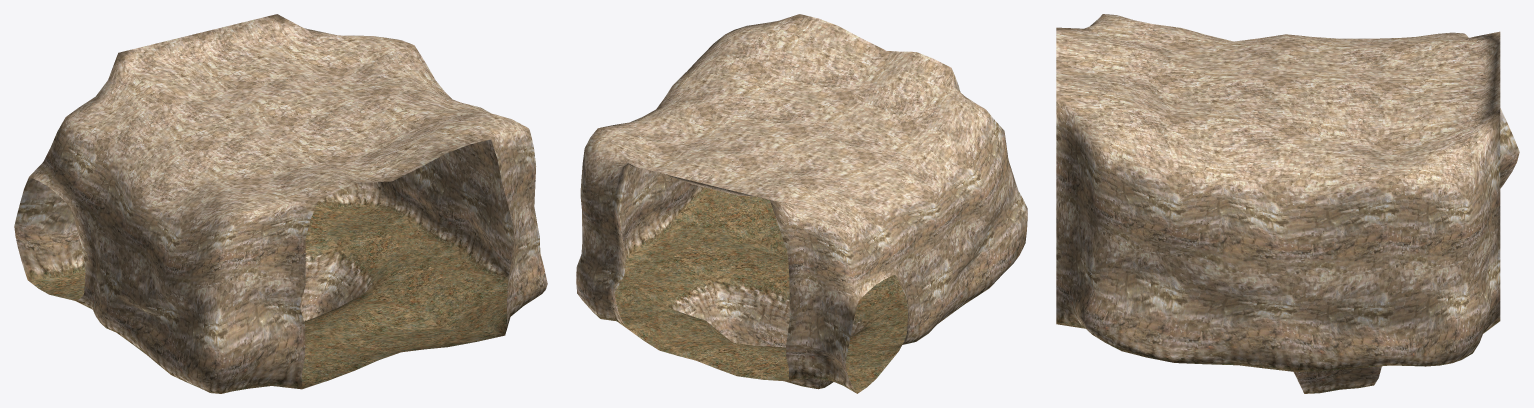
File: thm_all_cave_s02_r4_mesh_r4.fbx
3 renders of one model, left to right at view 1: azimuth 30°, elevation 25°; view 2: azimuth 150°, elevation 25°; view 3: azimuth 270°, elevation 25°, orthographic. The views are drawn at different scales.
Parts seen in each view (by area): view 1: mesh_node; view 2: mesh_node; view 3: mesh_node.
Part boxes in pixels (x1=…): mesh_node: x1=14, y1=14, x2=547, y2=393; mesh_node: x1=576, y1=14, x2=1027, y2=393; mesh_node: x1=1056, y1=14, x2=1519, y2=393.
Bounding box in the file's own units: 41.59 × 32.46 × 42.46.
